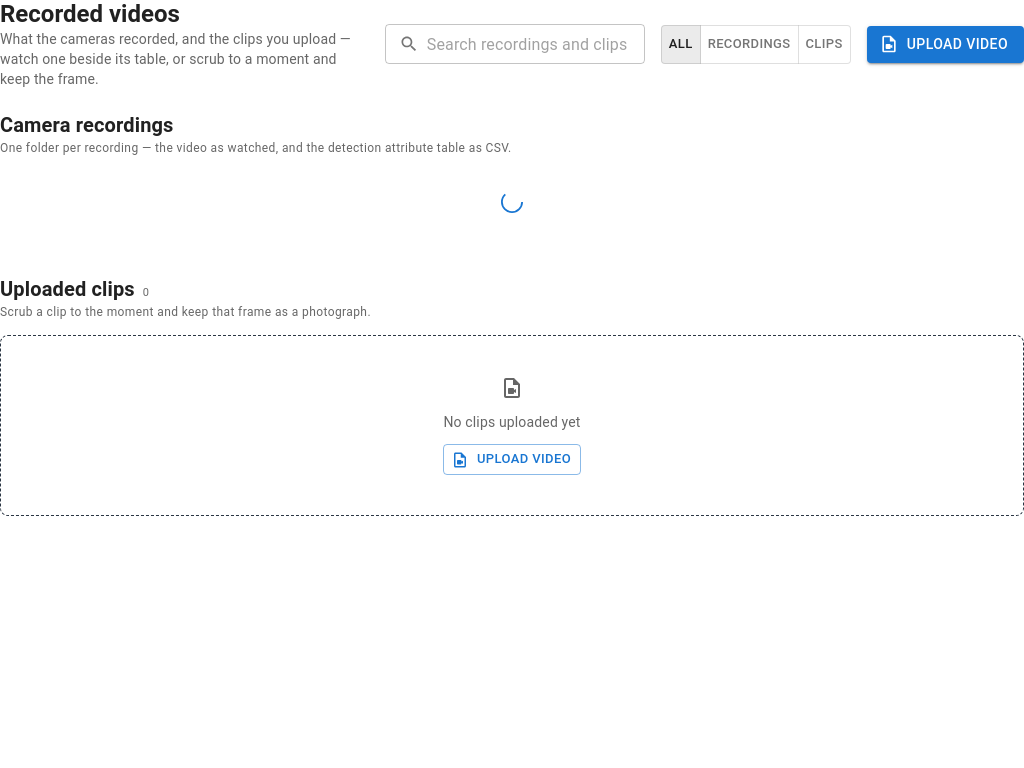
it: a library-only clip › ★ the Video editor’s picker offers the skip lane, and it opens a project-less upload
Click the 1st button "Upload video".
click(945, 44)  # box [867,26,1023,63]
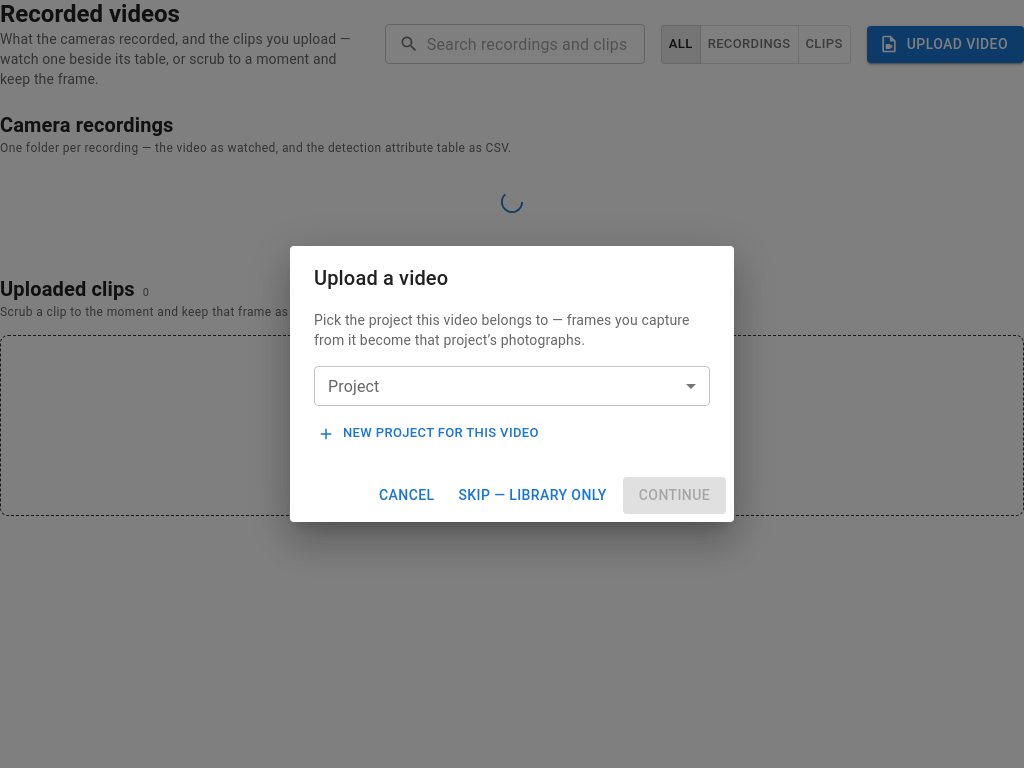
expect the button "Continue" is disabled: met, box [623,477,726,514]
Click the button "Skip — library only".
click(533, 495)  # box [450,477,615,514]
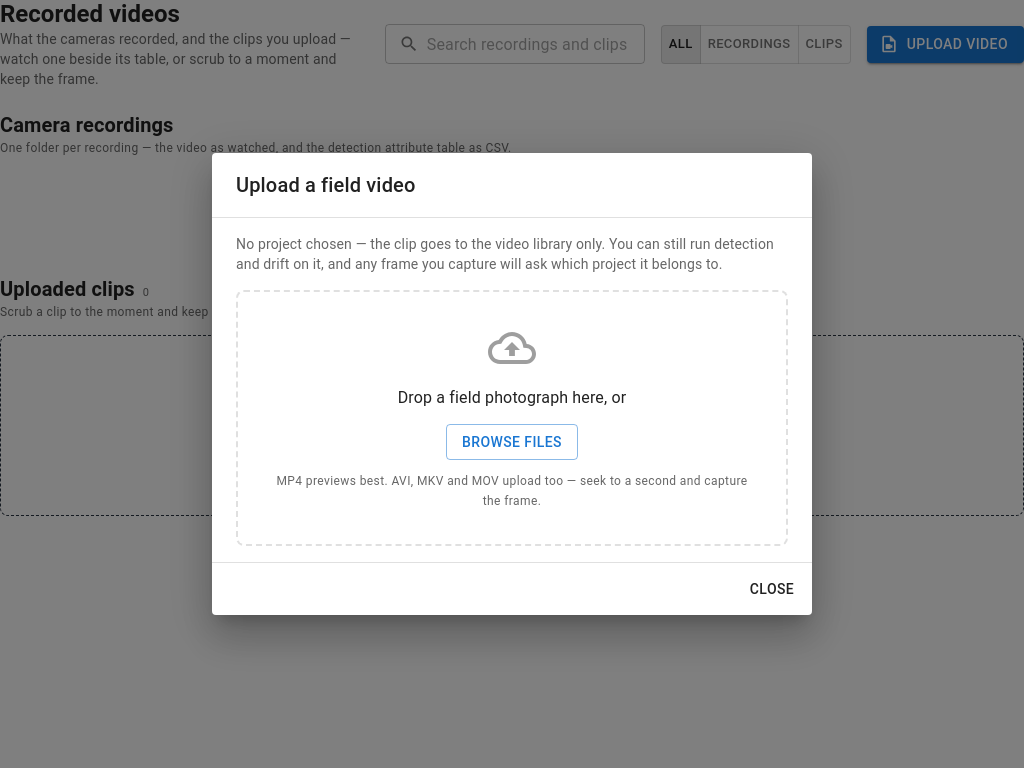
expect the text "the clip goes to the video library only" is shown: met, box [236,236,774,272]
